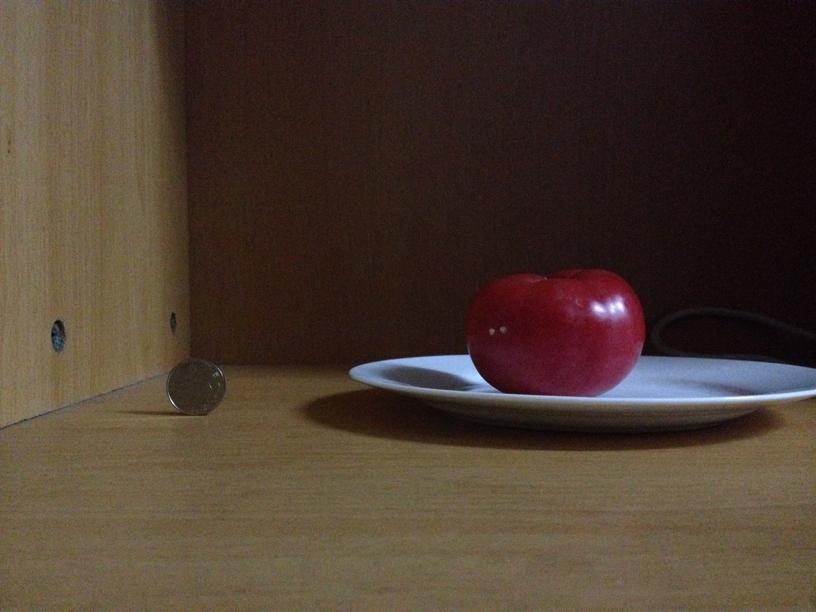coin: (165, 359, 228, 417)
tomato: (466, 270, 642, 396)
